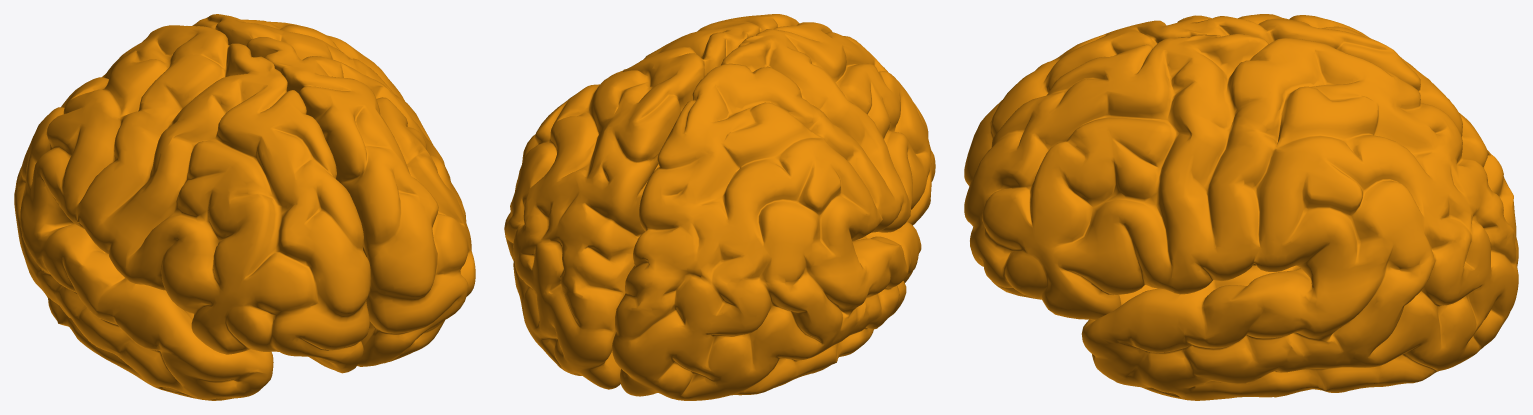
The model's file is Cereberum.glb.
3 renders of one model, left to right at view 1: azimuth 30°, elevation 25°; view 2: azimuth 150°, elevation 25°; view 3: azimuth 270°, elevation 25°, orthographic. The views are drawn at different scales.
Parts seen in each view (by area): view 1: Brain_Part_06, Brain_Part_04; view 2: Brain_Part_06, Brain_Part_04; view 3: Brain_Part_04, Brain_Part_06.
Part boxes in pixels (left/top/right/bottom): Brain_Part_06: left=14, top=25, right=370, bottom=400; Brain_Part_04: left=192, top=14, right=475, bottom=366; Brain_Part_06: left=612, top=22, right=935, bottom=400; Brain_Part_04: left=504, top=14, right=799, bottom=389; Brain_Part_04: left=964, top=34, right=1518, bottom=400; Brain_Part_06: left=964, top=14, right=1518, bottom=266.
Size of the model in its own units: 3.8 by 3.01 by 4.73.
